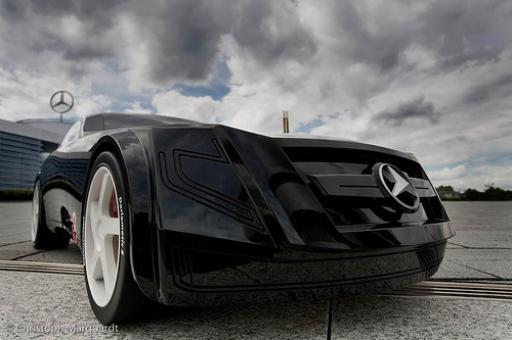Cheetah: (28, 99, 459, 335)
